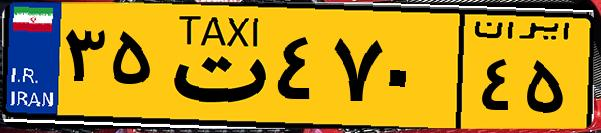0: (385, 28, 445, 110)
3: (57, 26, 110, 100)
4: (270, 28, 330, 110), (475, 38, 525, 113)
5: (525, 38, 570, 115), (110, 28, 158, 98)
7: (330, 28, 385, 110)
ت: (158, 12, 270, 120)
